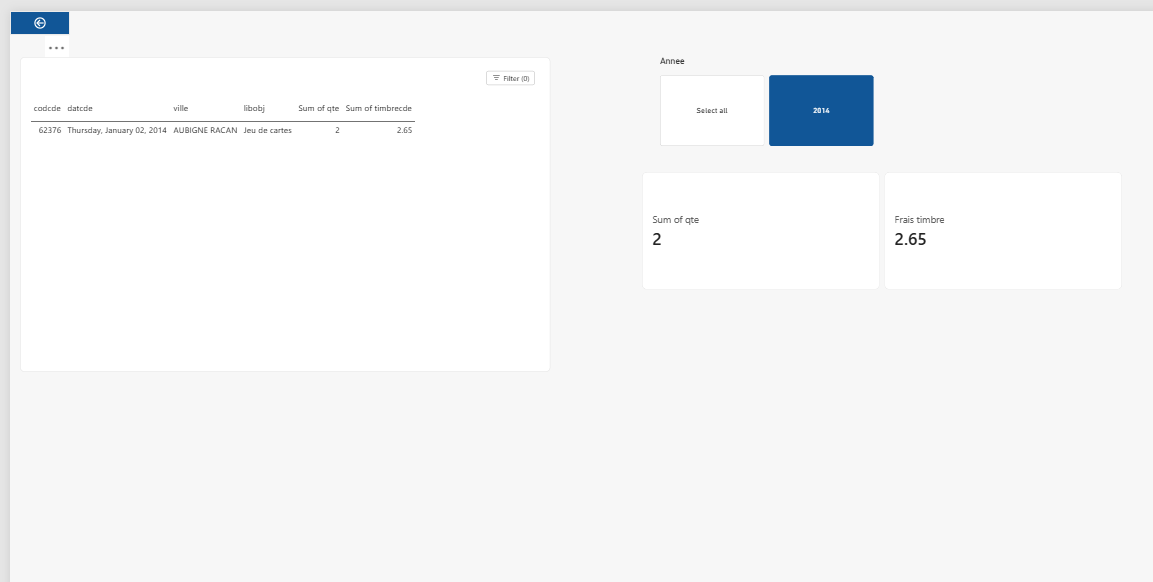

Layout of this report page (visuals, bound fields, positions):
{"tool":"powerbi","page":{"name":"Détail commande","canvas":[1920,1080],"ordinal":5},"visuals":[{"type":"actionButton","box":[0,0,100,40],"z":0},{"type":"tableEx","fields":{"Values":["lignes.codcde","lignes.datcde","lignes.ville","lignes.libobj","Sum(lignes.qte)","Sum(lignes.timbrecde)"]},"box":[16.1,77.3,883.6,524.7],"z":1000},{"type":"cardVisual","fields":{"Data":["Sum(lignes.qte)","lignes.Frais timbre"]},"box":[1053.3,268.3,801.5,196.3],"z":2000},{"type":"advancedSlicerVisual","fields":{"Values":["Calendrier.Annee"]},"box":[1083.8,75.2,356.5,150.1],"z":3000}]}

Visuals, with their boxes on the page's 1920x1080 design canvas (x1, y1, x2, y2). These are canvas units, not pixel positions in the 1153x582 screenshot, which may show the page scaled, cropped or inside an application window:
actionButton: [x1=0, y1=0, x2=100, y2=40]
tableEx - lignes.codcde x lignes.datcde: [x1=16, y1=77, x2=900, y2=602]
cardVisual - Sum(lignes.qte) x lignes.Frais timbre: [x1=1053, y1=268, x2=1855, y2=465]
advancedSlicerVisual - Calendrier.Annee: [x1=1084, y1=75, x2=1440, y2=225]
